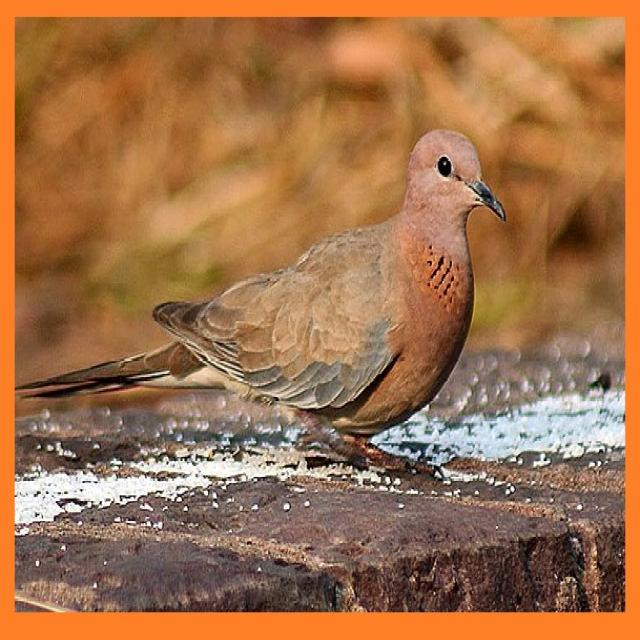dove: (18, 119, 505, 475)
